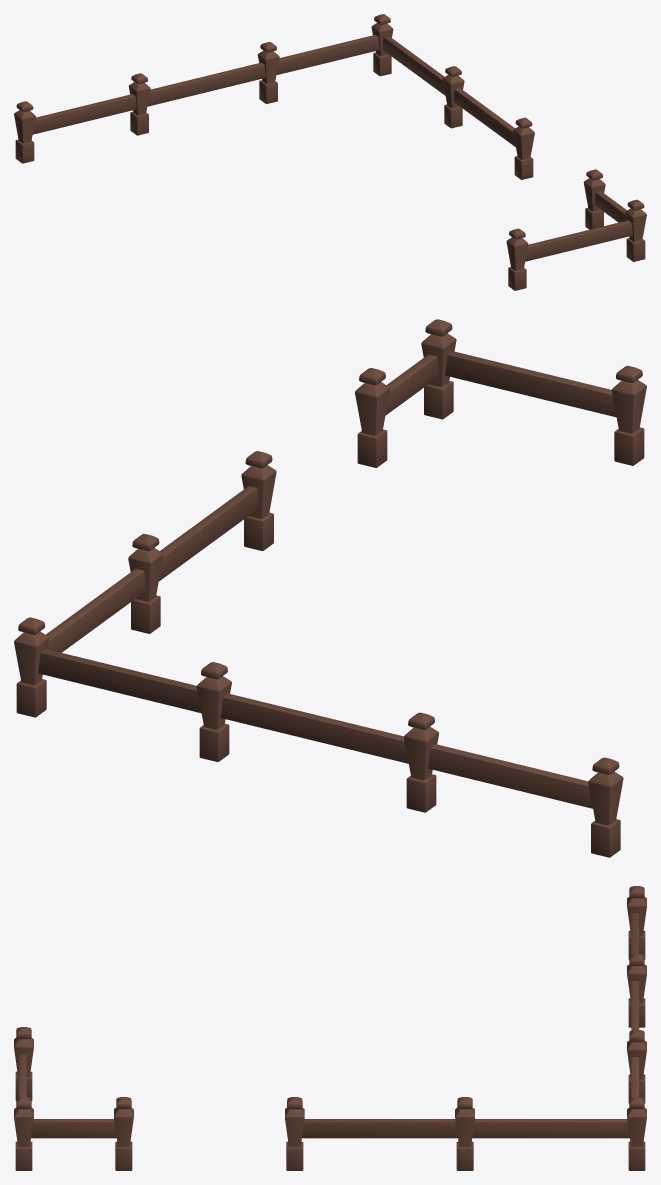
Rendered from Patio_fence_02.fbx.
3 renders of one model, top to bottom at view 1: azimuth 30°, elevation 25°; view 2: azimuth 150°, elevation 25°; view 3: azimuth 270°, elevation 25°, orthographic. The views are drawn at different scales.
Parts seen in each view (by area): view 1: Wooden_fence; view 2: Wooden_fence; view 3: Wooden_fence.
Boxes of the visible parts, bbox=[...] form: Wooden_fence: bbox=[14, 14, 646, 290]; Wooden_fence: bbox=[14, 319, 646, 857]; Wooden_fence: bbox=[14, 886, 646, 1170].
Bounding box in the file's own units: 629 × 92.79 × 767.
